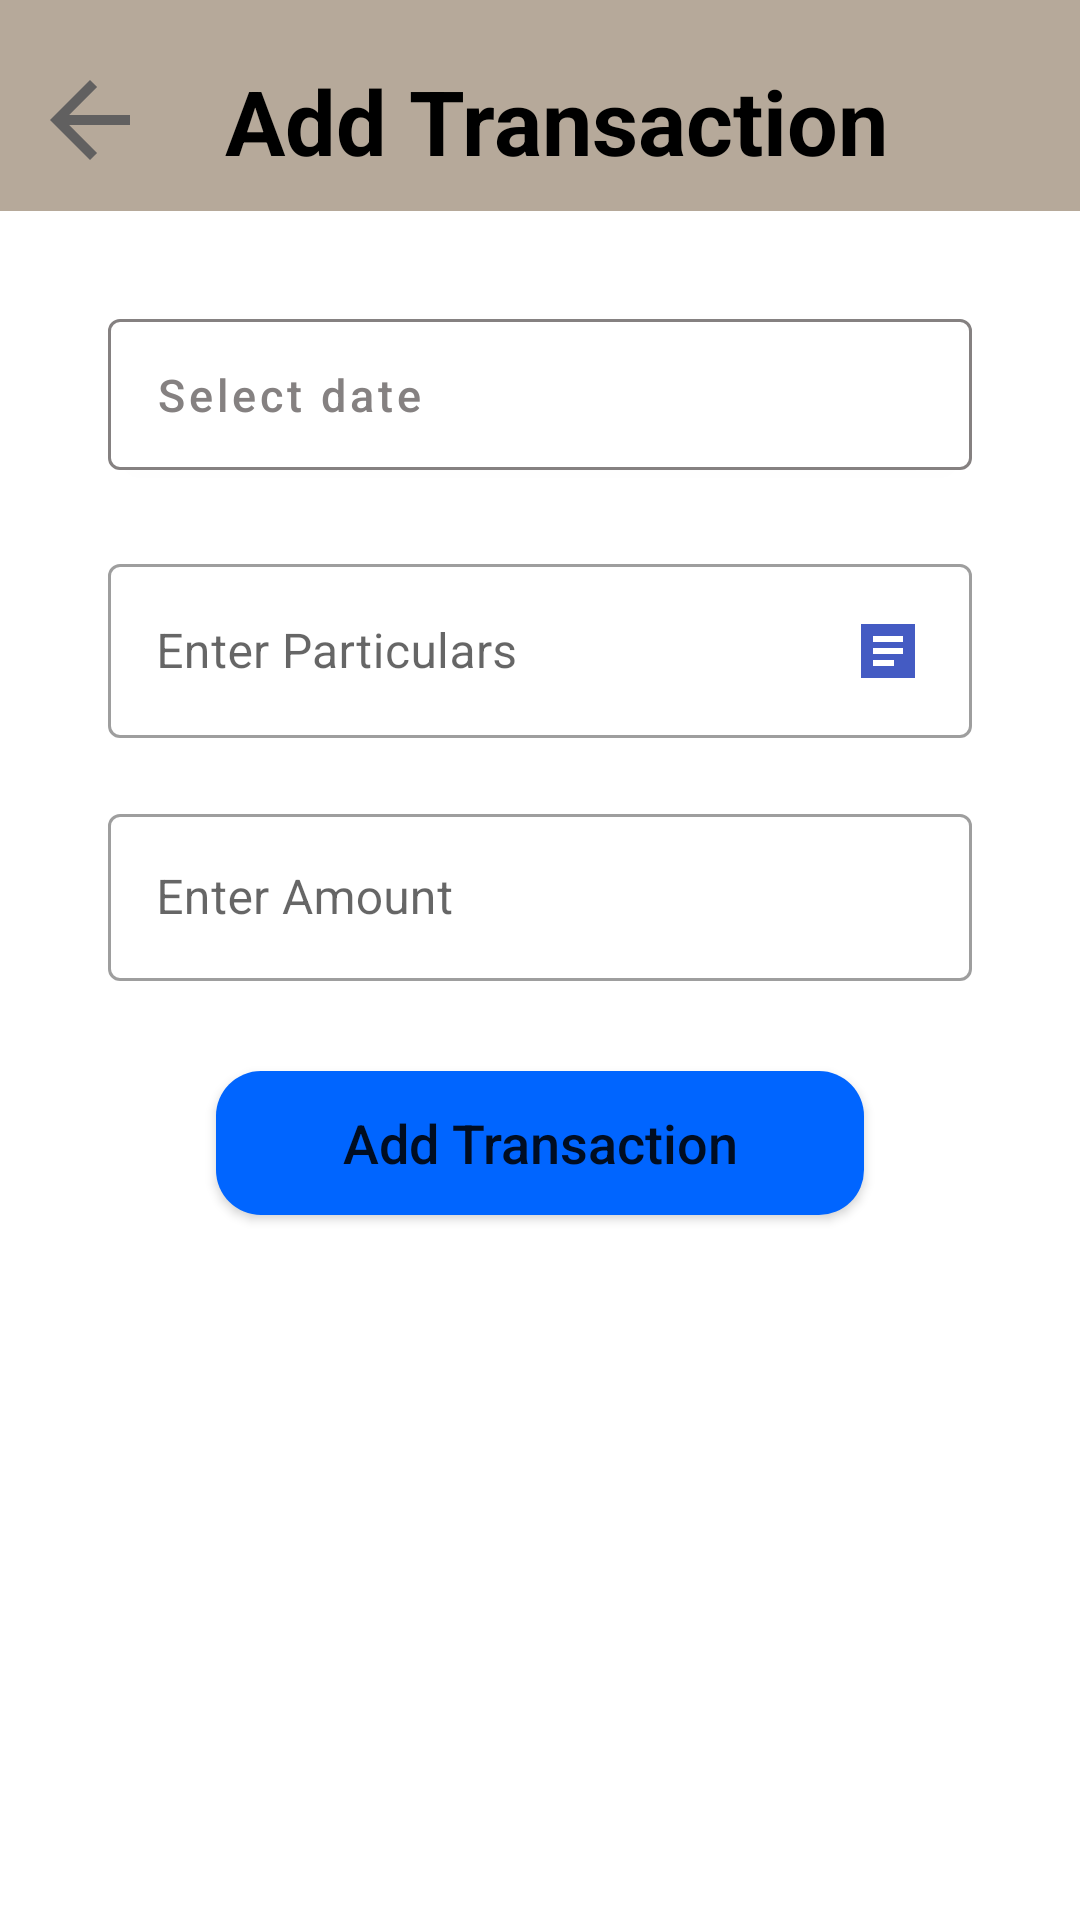

Icon bounding boxes for this 1080 × 1920 phone screenshot, format box(x1, y1, x2, y2):
arrow back: box(50, 80, 130, 160)
